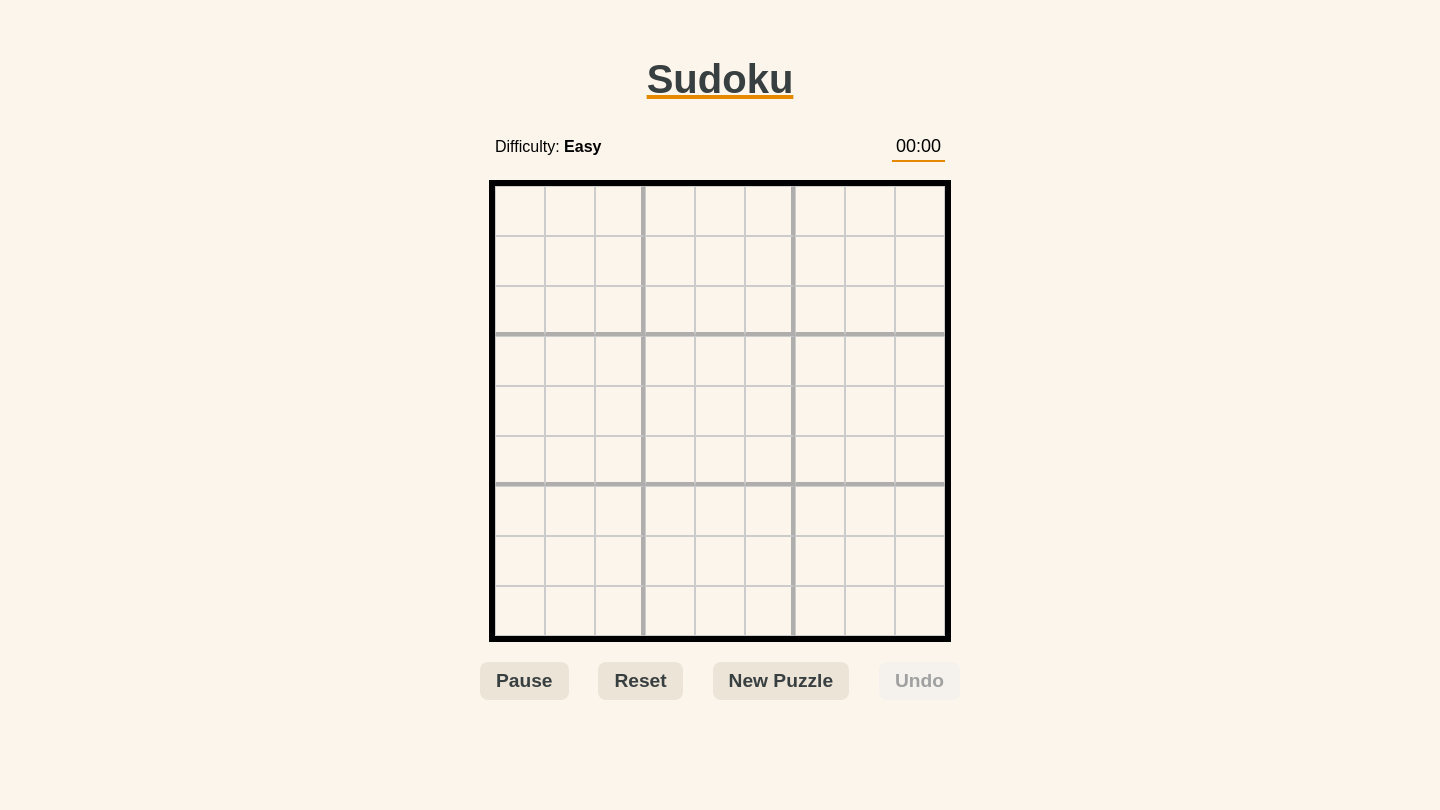
App Component › shows pause modal on Pause button click
This screenshot has width=1440, height=810.
Click the button "Pause" at (524,681), box [480,662,568,700]
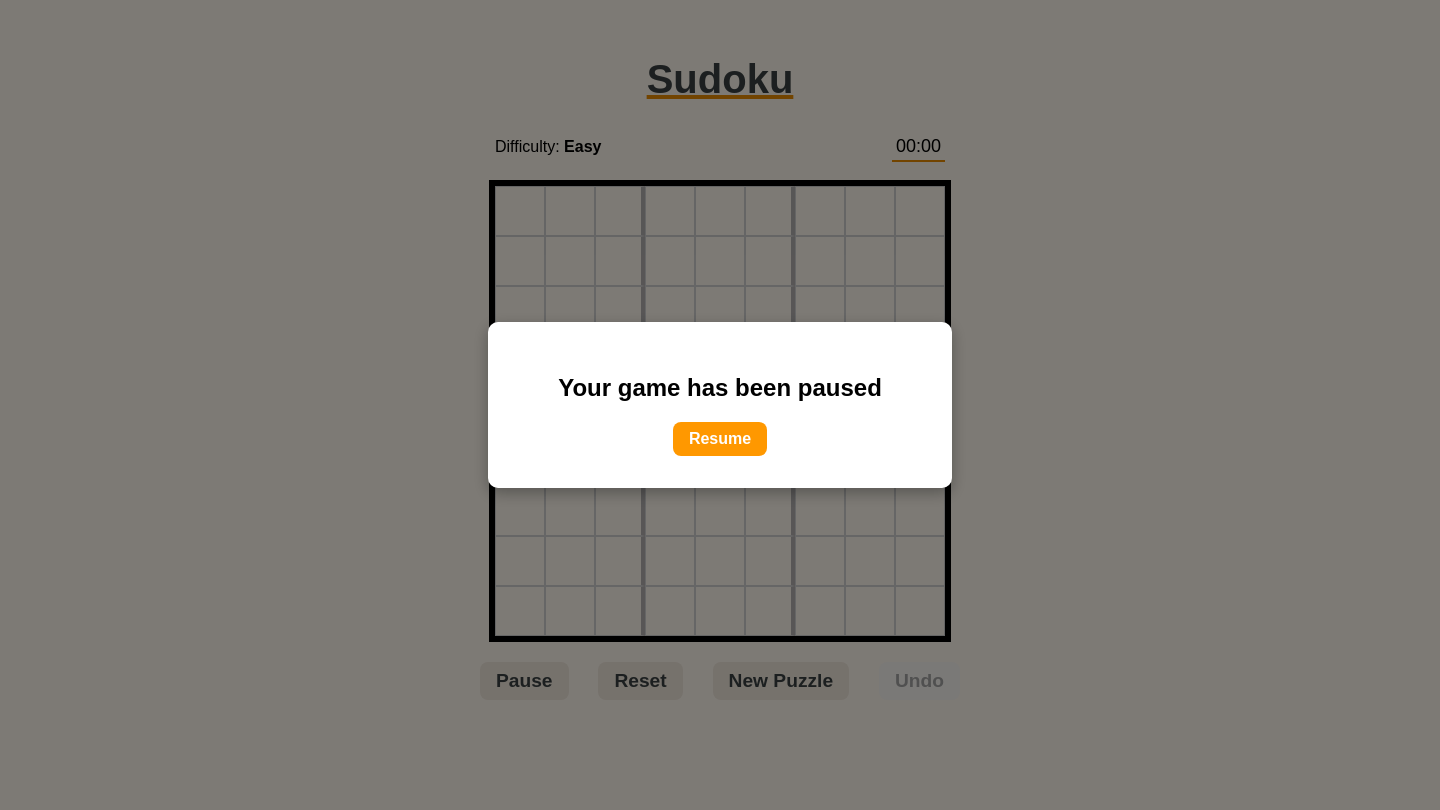
Now the heading "Your game has been paused" is shown, box [558,374,882,401]
